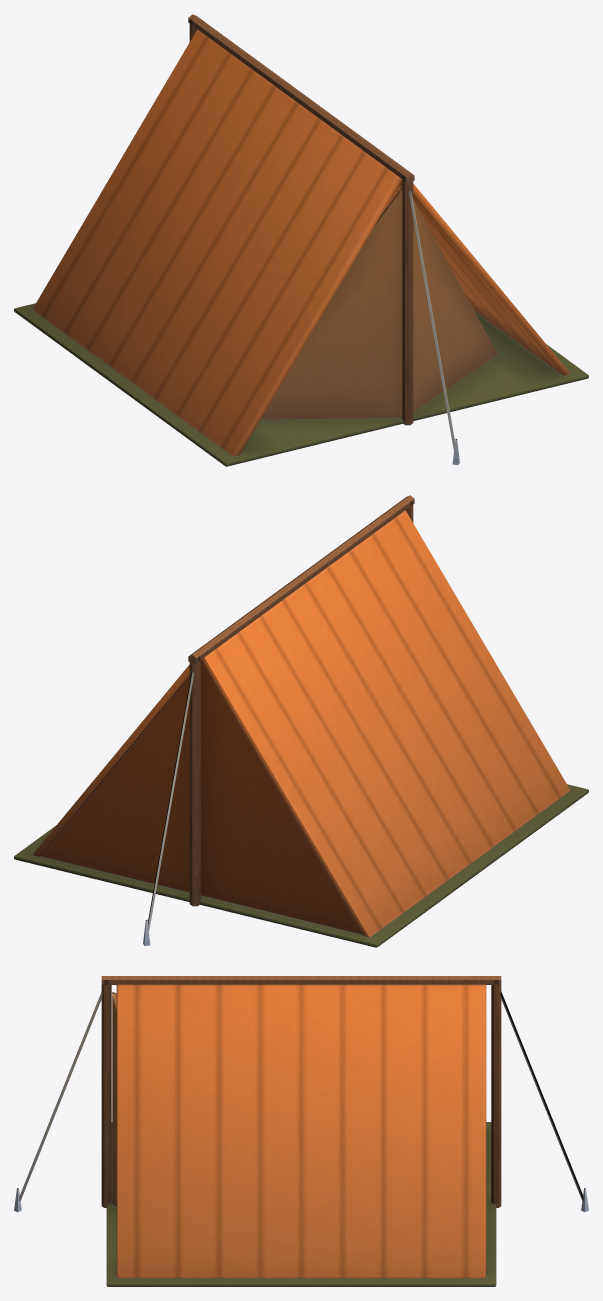
The model's file is Stage_Lake_Tent.glb.
3 views of the same model, one above another, from view 1: azimuth 30°, elevation 25°; view 2: azimuth 150°, elevation 25°; view 3: azimuth 270°, elevation 25° (orthographic). The views are drawn at different scales.
Parts seen in each view (by area): view 1: Stage_Lake_Tent; view 2: Stage_Lake_Tent; view 3: Stage_Lake_Tent.
Boxes of the visible parts, x1,y1,x2,y2 form: Stage_Lake_Tent: (14, 14, 588, 466); Stage_Lake_Tent: (14, 495, 588, 947); Stage_Lake_Tent: (14, 976, 588, 1286).
Size of the model in its own units: 7.8 by 5.25 by 11.66.
Materials: 1 (1 with a texture image).
